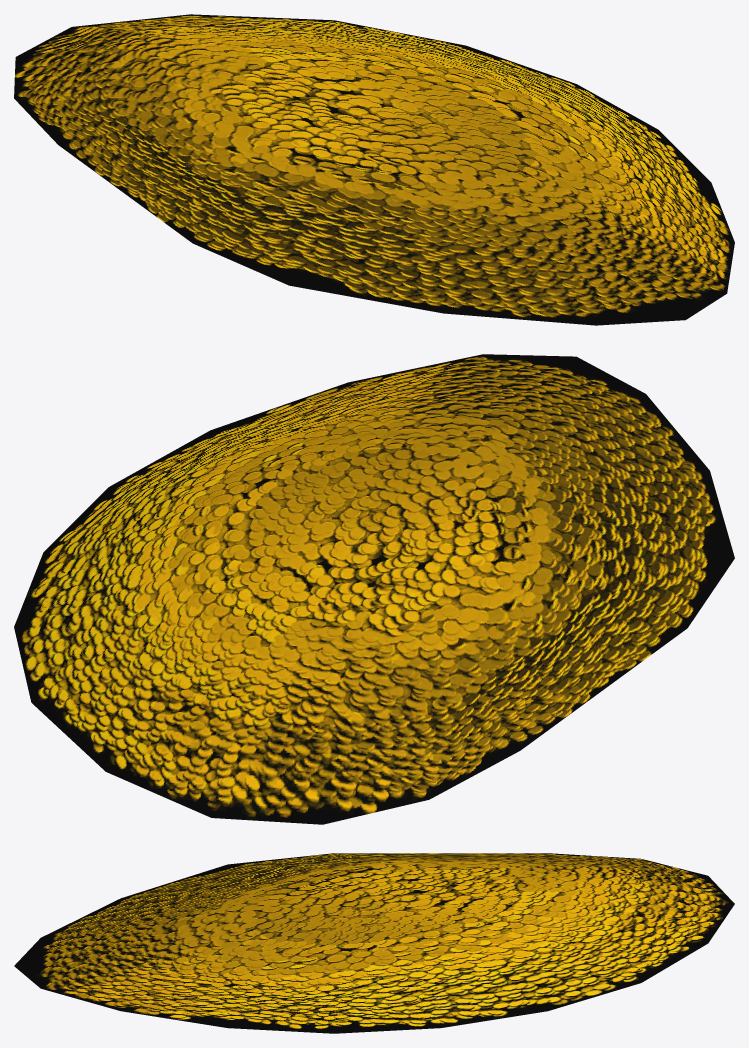
The model's file is INST_SM_GOLDPILE_SMALLA.fbx.
3 views of the same model, one above another, from view 1: azimuth 30°, elevation 25°; view 2: azimuth 150°, elevation 25°; view 3: azimuth 270°, elevation 25° (orthographic). The views are drawn at different scales.
Parts seen in each view (by area): view 1: INST_SM_GOLDPILE_SMALLA; view 2: INST_SM_GOLDPILE_SMALLA; view 3: INST_SM_GOLDPILE_SMALLA.
Boxes of the visible parts, left/top/right/bottom form: INST_SM_GOLDPILE_SMALLA: left=14, top=14, right=734, bottom=325; INST_SM_GOLDPILE_SMALLA: left=14, top=354, right=734, bottom=824; INST_SM_GOLDPILE_SMALLA: left=14, top=853, right=734, bottom=1033.
Bounding box in the file's own units: 40000 × 3810 × 67500.
1 material, 1 textured.
